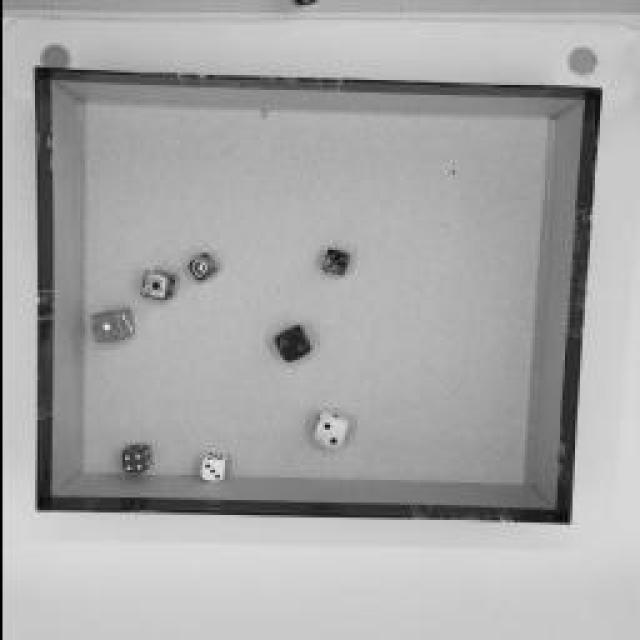dice_1: (88, 305, 134, 343), (138, 270, 172, 300), (189, 250, 216, 282)
dice_2: (271, 323, 311, 365), (312, 409, 346, 451)
dice_3: (198, 451, 230, 484)
dice_4: (119, 438, 149, 474)
dice_5: (320, 245, 350, 275)
